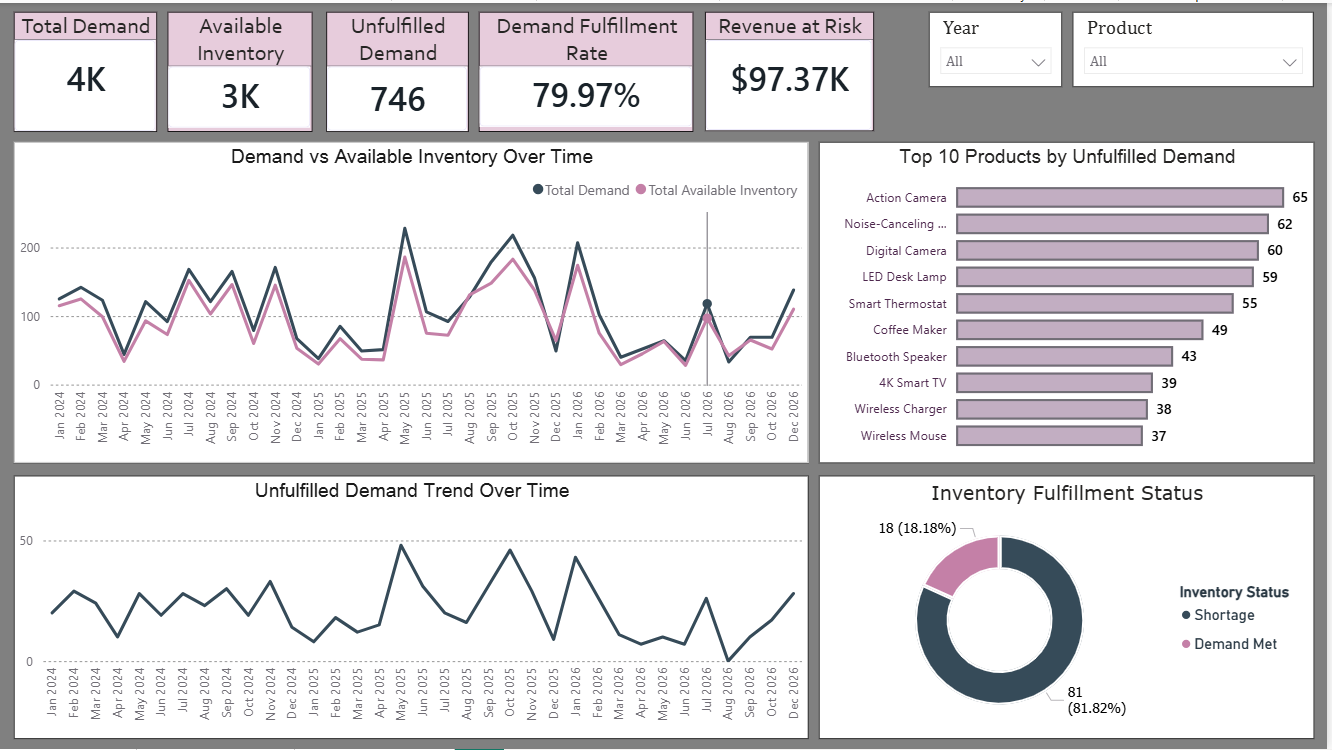

The page's visual inventory and layout, read from the dashboard file:
{"tool":"powerbi","page":{"name":"Inventory Overview","canvas":[1280,720],"ordinal":0},"visuals":[{"type":"lineChart","title":"Demand vs Available Inventory Over Time","fields":{"Category":["Date Table.Month Year"],"Y":["Measures Table.Total Demand","Measures Table.Total Available Inventory"]},"box":[12.7,133.6,767.4,310.5],"z":0},{"type":"clusteredBarChart","title":"Top 10 Products by Unfulfilled Demand","fields":{"Category":["Test Environment Inventory.product_name"],"Y":["Measures Table.Unfulfilled Demand"]},"box":[790.3,133.6,478.5,310.5],"z":1000},{"type":"lineChart","title":"Unfulfilled Demand Trend Over Time","fields":{"Category":["Date Table.Month Year"],"Y":["Measures Table.Unfulfilled Demand"]},"box":[12.7,455.6,767.4,254.5],"z":2000},{"type":"donutChart","title":"Inventory Fulfillment Status","fields":{"Category":["Test Environment Inventory.Inventory Status"],"Y":["CountNonNull(Test Environment Inventory.Inventory Status)"]},"box":[790.3,455.6,478.5,254.5],"z":3000},{"type":"slicer","fields":{"Values":["Date Table.Year"]},"box":[895.9,8.9,129,72.5],"z":4000},{"type":"cardVisual","title":"Total Demand","fields":{"Data":["Measures Table.Total Demand"]},"box":[12.7,8.9,138,115.8],"z":5000},{"type":"cardVisual","title":"Revenue at Risk","fields":{"Data":["Measures Table.Revenue at Risk"]},"box":[680.9,9,162.9,115],"z":6000},{"type":"cardVisual","title":"Available Inventory","fields":{"Data":["Measures Table.Total Availability"]},"box":[161.6,8.9,140,115.8],"z":7000},{"type":"cardVisual","title":"Unfulfilled Demand","fields":{"Data":["Measures Table.Unfulfilled Demand"]},"box":[314.3,8.9,137.4,115.8],"z":8000},{"type":"cardVisual","title":"Demand Fulfillment Rate","fields":{"Data":["Measures Table.Demand Fulfillment Rate"]},"box":[462,8.9,207.4,115.8],"z":9000},{"type":"slicer","fields":{"Values":["Test Environment Inventory.product_name"]},"box":[1034.6,8.9,232.9,72.5],"z":10000}]}

Visuals, with their boxes in screenshot pixels (x1, y1, x2, y2), scaled from the page's 1280x720 canvas onto the 1332x750 screenshot:
"Demand vs Available Inventory Over Time" lineChart: {"x1": 13, "y1": 139, "x2": 812, "y2": 463}
"Top 10 Products by Unfulfilled Demand" clusteredBarChart: {"x1": 822, "y1": 139, "x2": 1320, "y2": 463}
"Unfulfilled Demand Trend Over Time" lineChart: {"x1": 13, "y1": 475, "x2": 812, "y2": 740}
"Inventory Fulfillment Status" donutChart: {"x1": 822, "y1": 475, "x2": 1320, "y2": 740}
slicer - Date Table.Year: {"x1": 932, "y1": 9, "x2": 1067, "y2": 85}
"Total Demand" cardVisual: {"x1": 13, "y1": 9, "x2": 157, "y2": 130}
"Revenue at Risk" cardVisual: {"x1": 709, "y1": 9, "x2": 878, "y2": 129}
"Available Inventory" cardVisual: {"x1": 168, "y1": 9, "x2": 314, "y2": 130}
"Unfulfilled Demand" cardVisual: {"x1": 327, "y1": 9, "x2": 470, "y2": 130}
"Demand Fulfillment Rate" cardVisual: {"x1": 481, "y1": 9, "x2": 697, "y2": 130}
slicer - Test Environment Inventory.product_name: {"x1": 1077, "y1": 9, "x2": 1319, "y2": 85}
